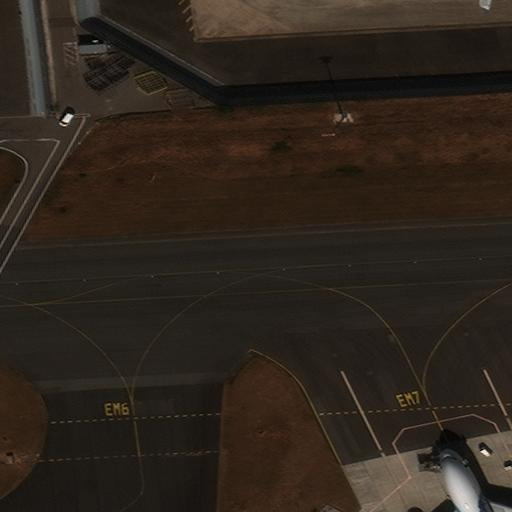Large Civil Transport: (405, 448, 511, 511)
